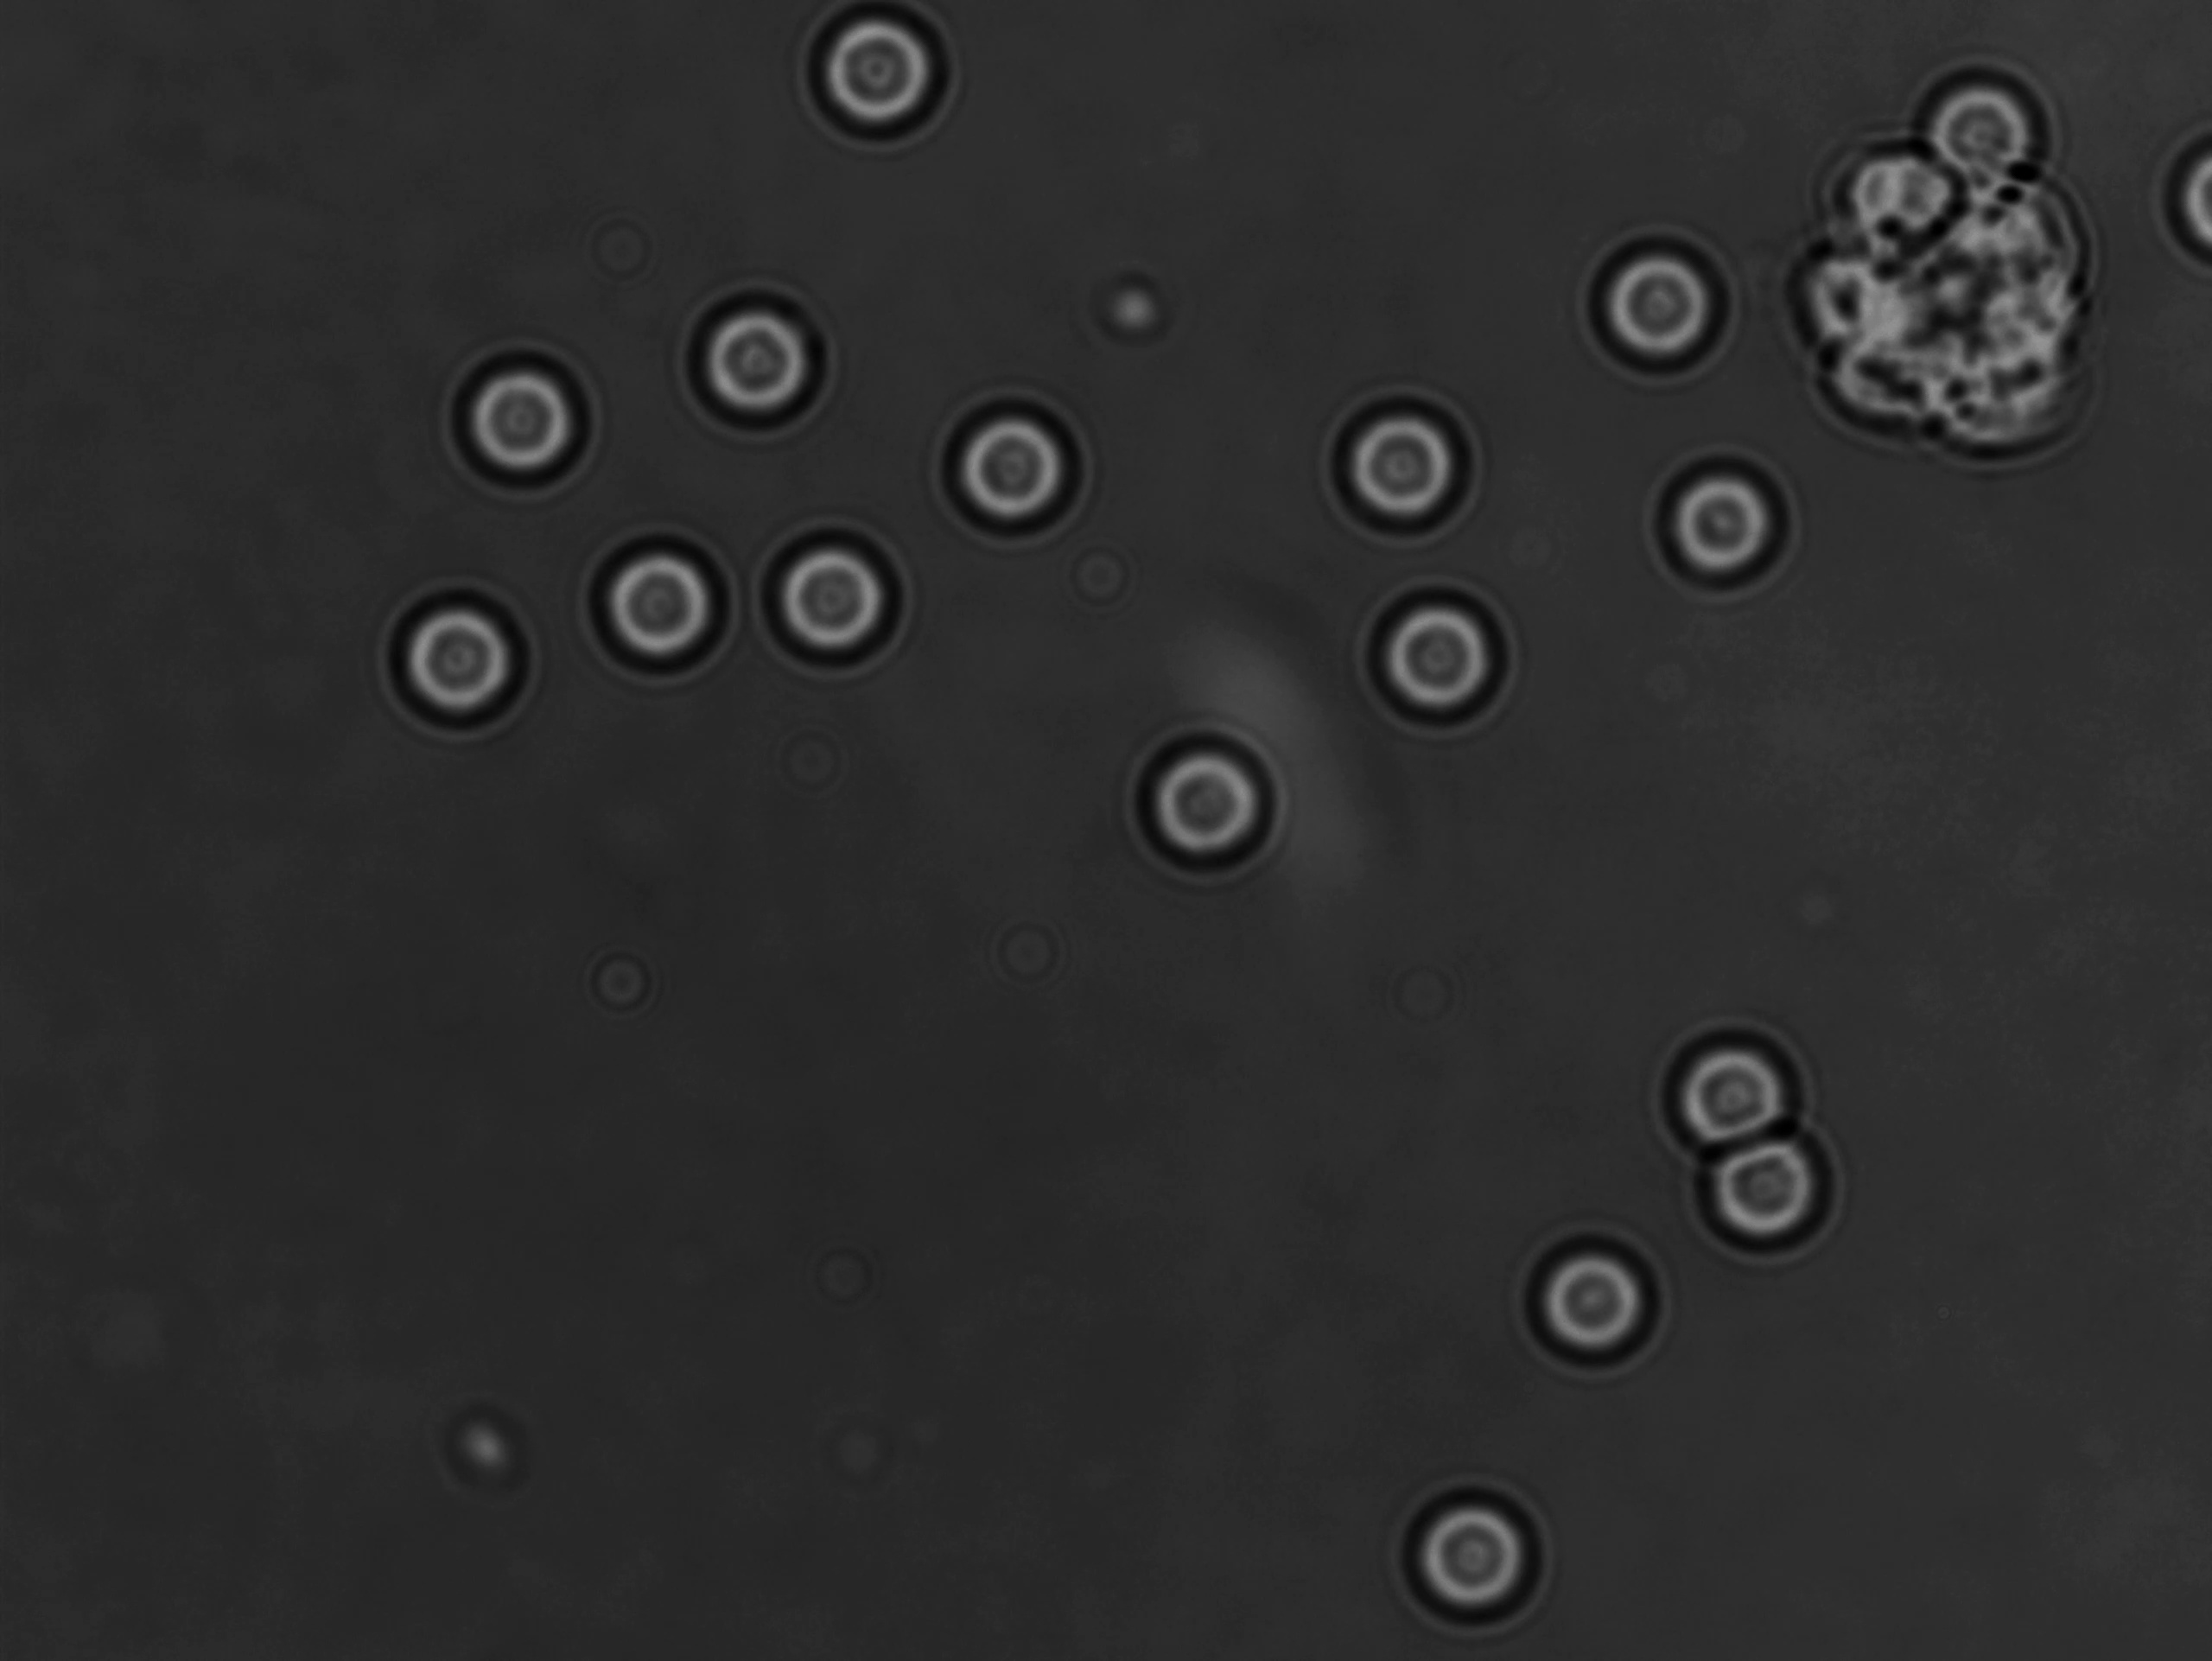depth:20: (1350, 567, 1519, 743), (1387, 1480, 1556, 1652), (434, 328, 604, 494), (663, 277, 830, 443), (1312, 382, 1472, 551), (752, 518, 916, 680), (372, 588, 541, 745), (1521, 1218, 1680, 1384), (1654, 1014, 1813, 1176), (928, 391, 1087, 551), (1574, 222, 1729, 382), (1127, 722, 1286, 878), (577, 523, 734, 679), (1689, 1124, 1851, 1274), (1645, 443, 1795, 604), (1919, 61, 2064, 213)
